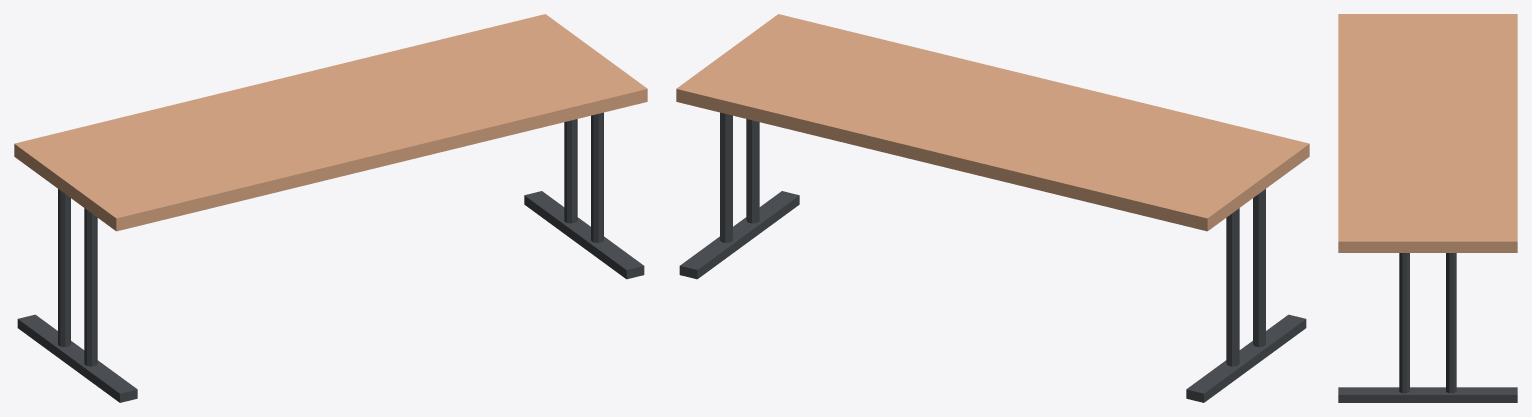
File: Pipeleg3m.fbx
3 renders of one model, left to right at view 1: azimuth 30°, elevation 25°; view 2: azimuth 150°, elevation 25°; view 3: azimuth 270°, elevation 25°, orthographic. The views are drawn at different scales.
Visible parts, largest first — view 1: PutkijalkatableLonger; view 2: PutkijalkatableLonger; view 3: PutkijalkatableLonger.
Boxes of the visible parts, left/top/right/bottom form: PutkijalkatableLonger: left=14, top=14, right=647, bottom=402; PutkijalkatableLonger: left=676, top=14, right=1309, bottom=402; PutkijalkatableLonger: left=1338, top=14, right=1517, bottom=402.
Bounding box in the file's own units: 300 × 100 × 100.
